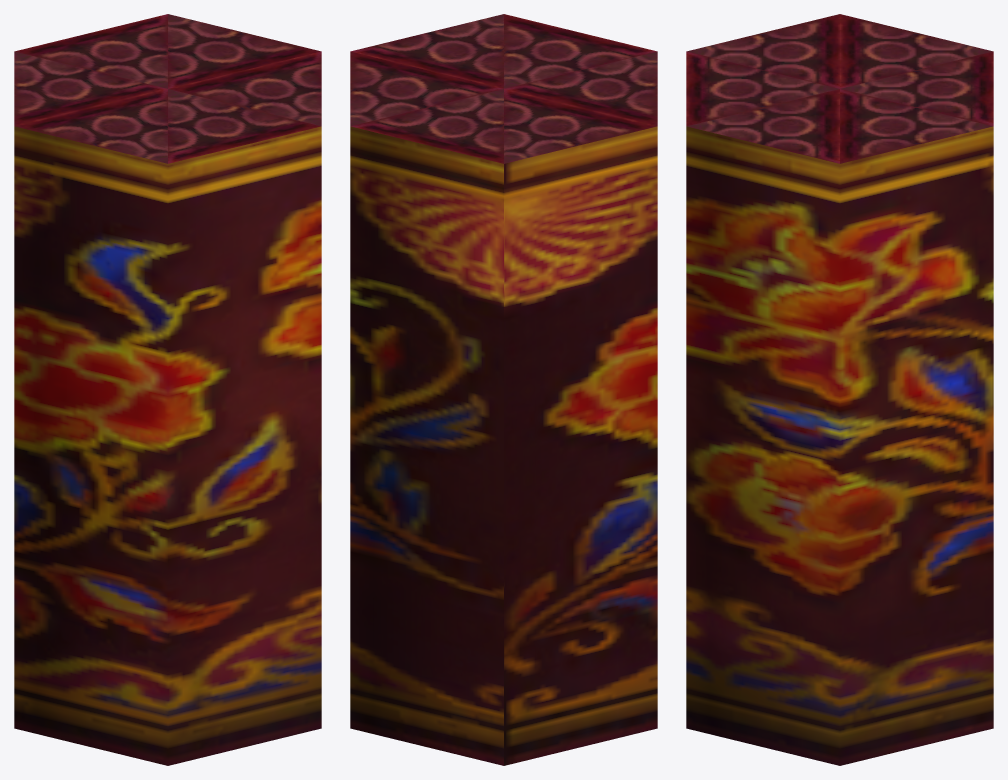
File: hd_fireworks_1_55_34_0964out.fbx
The picture shows the model from 3 angles, left to right: view 1: azimuth 30°, elevation 25°; view 2: azimuth 150°, elevation 25°; view 3: azimuth 270°, elevation 25°; orthographic projection.
Parts seen in each view (by area): view 1: yanhuatong; view 2: yanhuatong; view 3: yanhuatong.
Part boxes in pixels (box(x1,y1,x2,y2)): yanhuatong: box(14, 14, 321, 765); yanhuatong: box(350, 14, 657, 765); yanhuatong: box(686, 14, 993, 765).
Size of the model in its own units: 0.2122 by 0.3974 by 0.1837.
